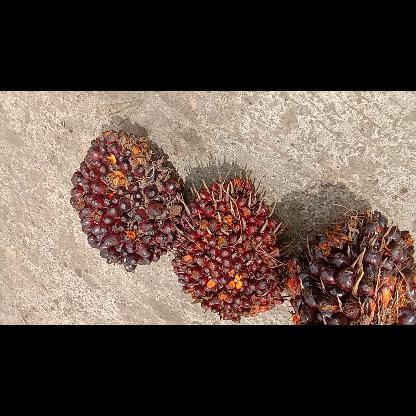Kurang masak: (172, 173, 284, 321), (68, 128, 180, 272)
TBS masak: (286, 212, 416, 324)
